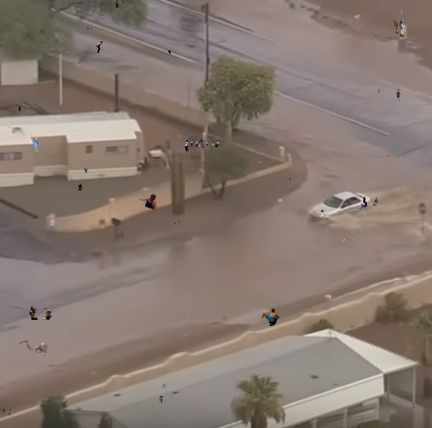Human: (19, 340, 49, 357), (377, 20, 407, 37), (185, 139, 223, 152), (260, 308, 280, 326), (29, 305, 52, 320), (139, 194, 157, 211), (361, 195, 378, 207), (4, 104, 26, 112), (96, 41, 103, 53), (396, 89, 402, 101), (116, 0, 125, 8), (3, 407, 11, 416), (34, 138, 39, 152), (77, 184, 83, 192), (342, 238, 354, 242), (173, 220, 181, 225), (158, 396, 163, 403), (84, 168, 90, 173), (168, 50, 171, 55), (87, 27, 92, 30), (391, 311, 393, 318), (420, 306, 422, 312), (378, 89, 381, 93), (387, 155, 389, 160), (401, 9, 403, 14), (321, 209, 324, 212), (289, 177, 292, 180)
